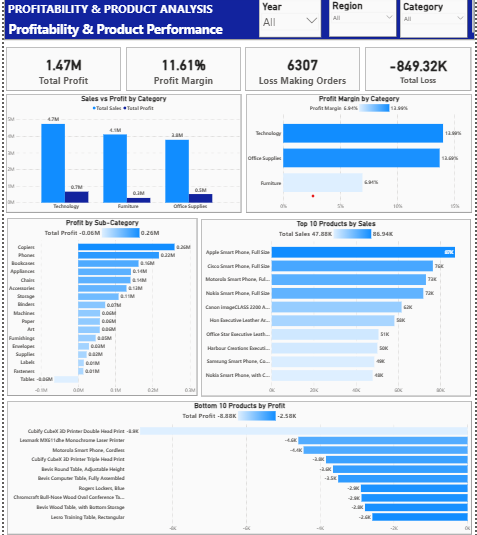

The dashboard page shown, as its layout file describes it:
{"tool":"powerbi","page":{"name":"Profitability & Product Analysis","canvas":[2000,2300],"ordinal":2},"visuals":[{"type":"textbox","box":[0,0,2000,186.2],"z":0},{"type":"card","fields":{"Values":["Orders.Total Profit"]},"box":[8.7,214.8,487.7,185.8],"z":1000},{"type":"card","fields":{"Values":["Orders.Profit Margin"]},"box":[519.6,214.8,487.7,185.8],"z":2000},{"type":"card","fields":{"Values":["Orders.Loss Making Orders"]},"box":[1024.7,214.8,487.7,185.8],"z":3000},{"type":"card","fields":{"Values":["Orders.Total Loss"]},"box":[1532.7,214.8,449.9,185.8],"z":4000},{"type":"slicer","fields":{"Values":["Dim_Date.Date.Variation.Date Hierarchy.Year"]},"box":[1082.8,11.5,264.4,163.2],"z":5000},{"type":"slicer","fields":{"Values":["Orders.Region"]},"box":[1378.8,8.7,287.4,165.5],"z":6000},{"type":"slicer","fields":{"Values":["Orders.Category"]},"box":[1680.7,11.6,287.4,165.5],"z":7000},{"type":"clusteredColumnChart","title":"Sales vs Profit by Category","fields":{"Category":["Dim_product.Category"],"Y":["Orders.Total Sales","Orders.Total Profit"]},"box":[9.2,416.1,997.7,503.4],"z":8000},{"type":"clusteredBarChart","fields":{"Category":["Orders.Category"],"Y":["Orders.Profit Margin"]},"box":[1025.3,416.1,958.6,503.4],"z":9000},{"type":"clusteredBarChart","title":"Profit by Sub-Category","fields":{"Category":["Orders.Sub-Category"],"Y":["Orders.Total Profit"]},"box":[11.5,942.5,806.9,754],"z":10000},{"type":"clusteredBarChart","title":"Top 10 Products by Sales","fields":{"Category":["Orders.Product Name"],"Y":["Orders.Total Sales"]},"box":[836.8,944.8,1144.8,751.7],"z":11000},{"type":"clusteredBarChart","title":"Bottom 10 Products by Profit","fields":{"Category":["Orders.Product Name"],"Y":["Orders.Total Profit"]},"box":[11.5,1717.2,1972.4,565.5],"z":12000}]}

Visuals, with their boxes in screenshot pixels (x1, y1, x2, y2), scaled from the page's 2000x2300 canvas onto the 477x535 screenshot:
textbox: bbox(0, 0, 476, 43)
card - Orders.Total Profit: bbox(2, 50, 118, 93)
card - Orders.Profit Margin: bbox(124, 50, 240, 93)
card - Orders.Loss Making Orders: bbox(244, 50, 361, 93)
card - Orders.Total Loss: bbox(366, 50, 473, 93)
slicer - Dim_Date.Date.Variation.Date Hierarchy.Year: bbox(258, 3, 321, 41)
slicer - Orders.Region: bbox(329, 2, 397, 41)
slicer - Orders.Category: bbox(401, 3, 469, 41)
"Sales vs Profit by Category" clusteredColumnChart: bbox(2, 97, 240, 214)
clusteredBarChart - Orders.Category x Orders.Profit Margin: bbox(245, 97, 473, 214)
"Profit by Sub-Category" clusteredBarChart: bbox(3, 219, 195, 395)
"Top 10 Products by Sales" clusteredBarChart: bbox(200, 220, 473, 395)
"Bottom 10 Products by Profit" clusteredBarChart: bbox(3, 399, 473, 531)
